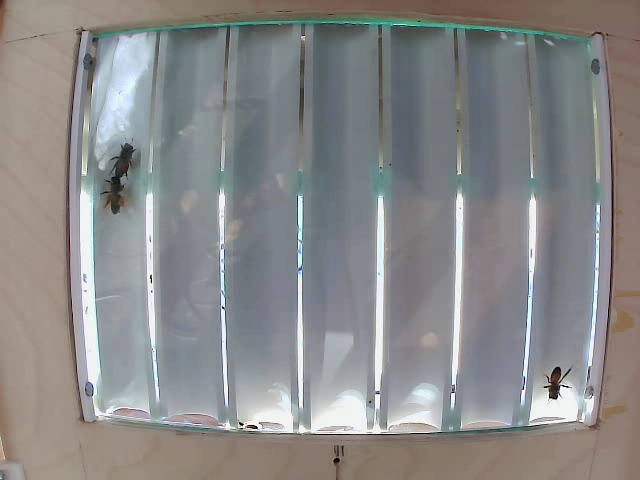bee: (111, 147, 153, 176), (100, 181, 130, 210)
